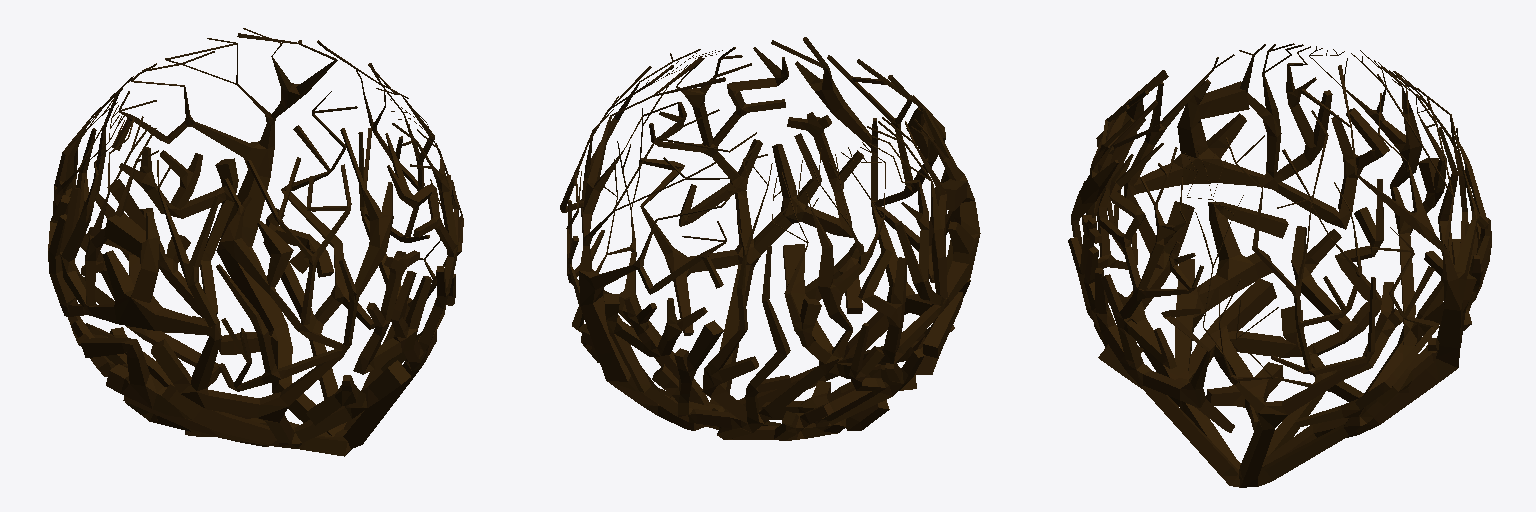
Rendered from tumbleweed.obj.
3 renders of one model, left to right at view 1: azimuth 30°, elevation 25°; view 2: azimuth 150°, elevation 25°; view 3: azimuth 270°, elevation 25°, orthographic.
Parts seen in each view (by area): view 1: Vert; view 2: Vert; view 3: Vert.
Part boxes in pixels (left/top/right/bottom): Vert: left=48, top=28, right=463, bottom=456; Vert: left=560, top=37, right=980, bottom=440; Vert: left=1068, top=43, right=1491, bottom=487.
Bounding box in the file's own units: 1.93 × 2.05 × 2.